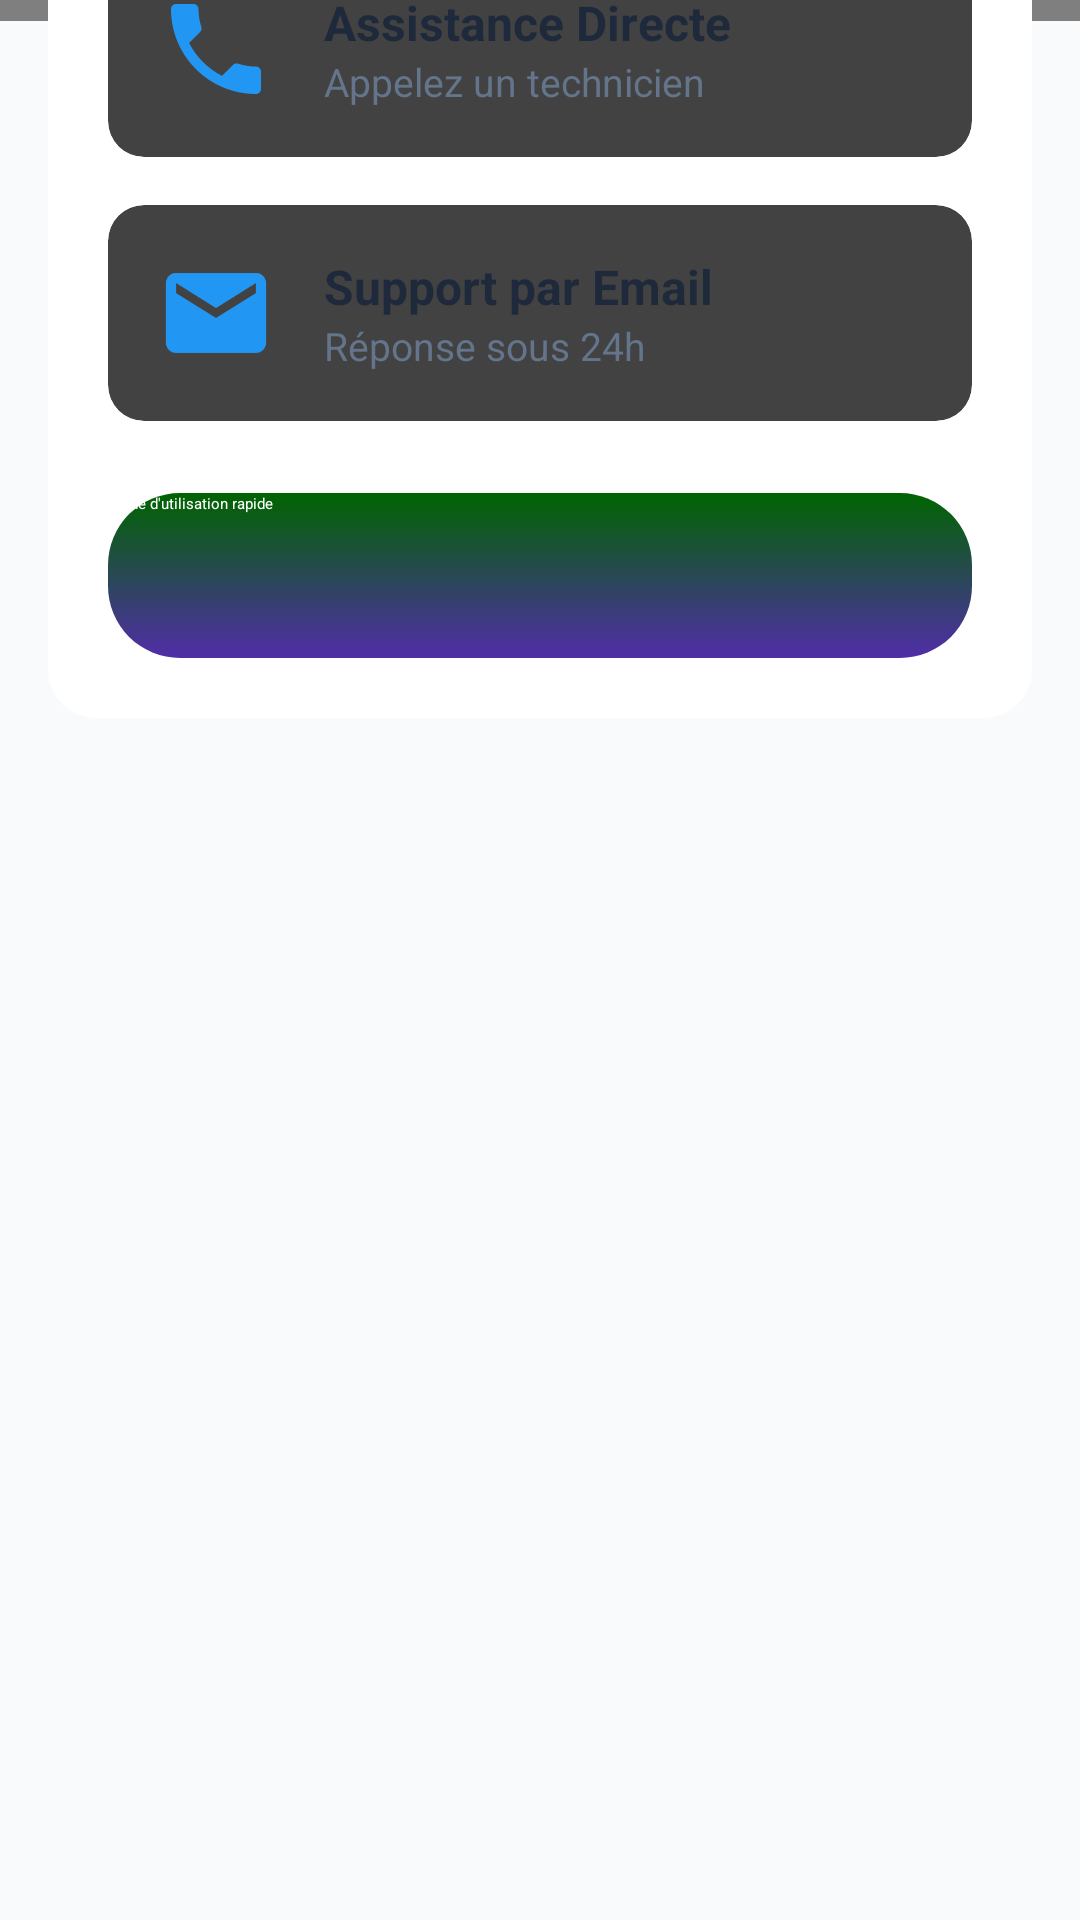

Where to tap for icons on this 1080*1920 app screen, as (x=x, y=y):
phone: (x=216, y=49)
